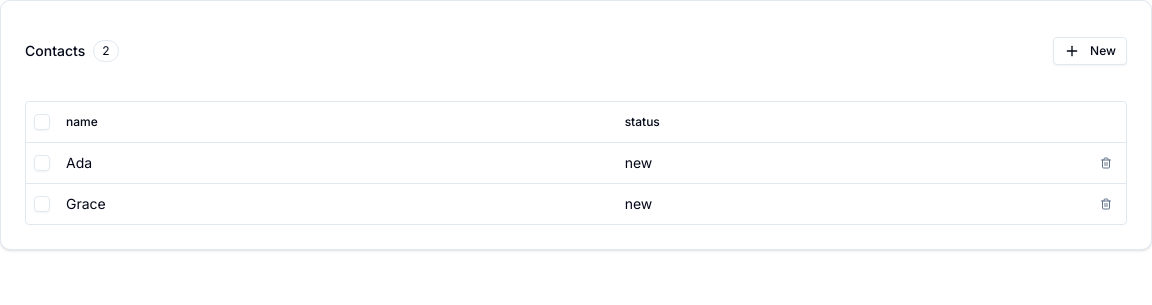
Scenario: RelatedList › mass edit (bulk jobs) › shows the action bar with the selection count and clears it
Click the checkbox with test id "related-select-rec-1". click: click(42, 162)
box: [34, 154, 50, 170]
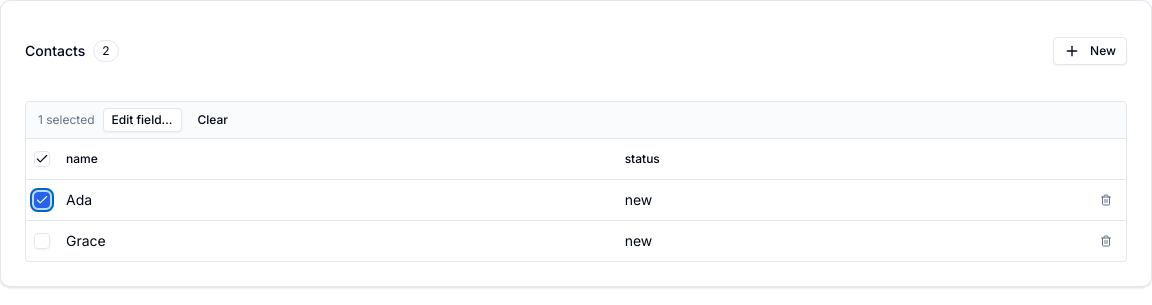
Now the text with test id "related-mass-edit-count" reads "1 selected", box [38, 112, 94, 128]
Click the checkbox with test id "related-select-rec-2". click: click(42, 240)
box: [34, 232, 50, 248]
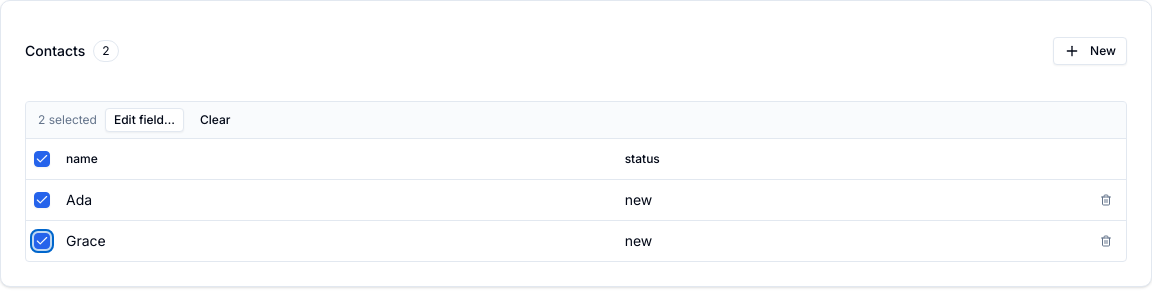
Now the text with test id "related-mass-edit-count" reads "2 selected", box [38, 112, 97, 128]
Click the button with test id "related-mass-edit-clear". click: click(215, 120)
box: [192, 108, 238, 132]
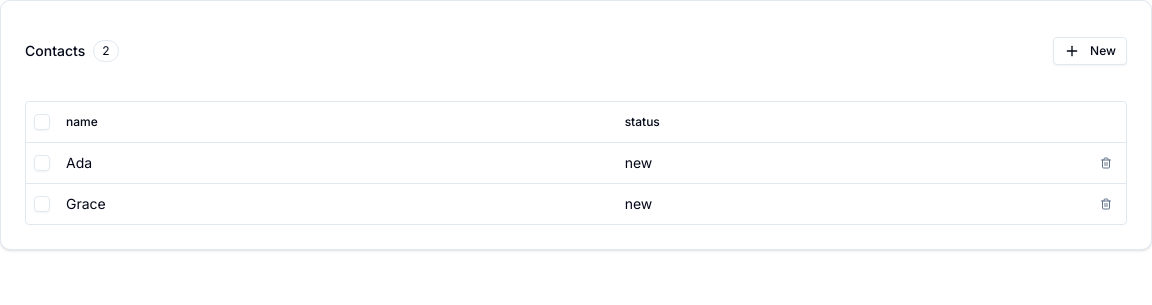
Now the element with test id "related-mass-edit-bar" is gone
